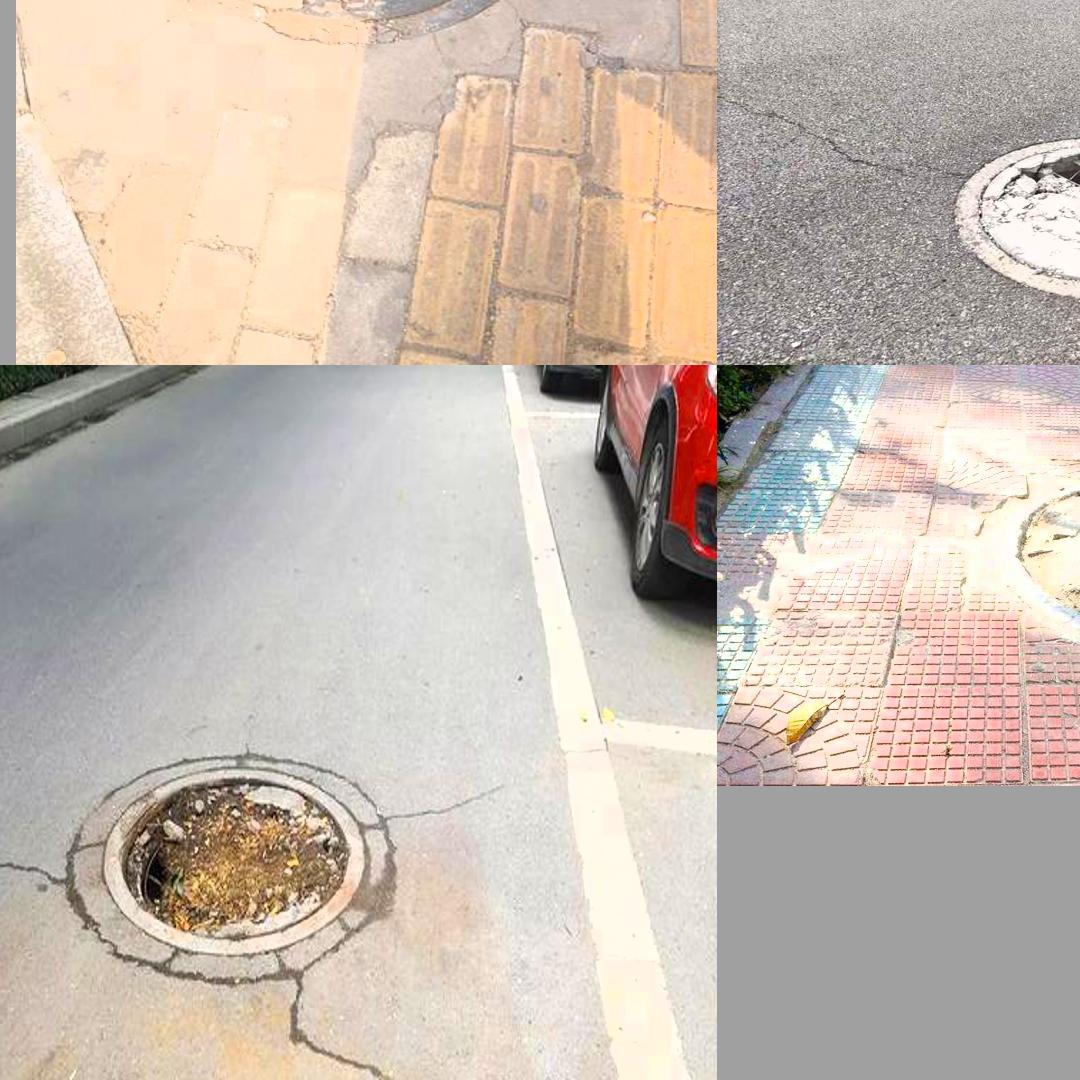broke: (46, 719, 402, 1000), (127, 0, 586, 64), (947, 131, 1080, 308), (995, 478, 1080, 643)
